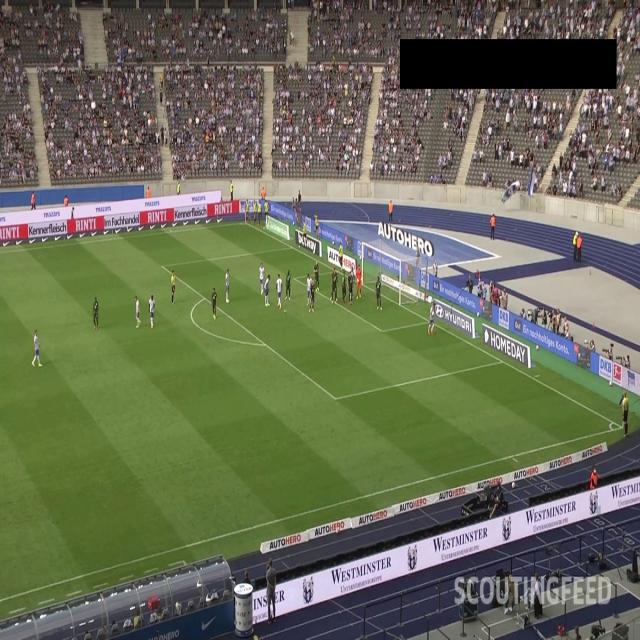ball: (431, 308, 436, 318)
player: (34, 325, 42, 368), (428, 298, 438, 332), (331, 266, 337, 302), (265, 274, 271, 310), (224, 267, 230, 303), (376, 276, 382, 311), (285, 270, 292, 300), (92, 296, 99, 326), (212, 286, 218, 320), (310, 278, 316, 310), (277, 273, 283, 304), (259, 264, 265, 295), (342, 269, 347, 301), (150, 294, 155, 326), (357, 264, 361, 299), (136, 295, 140, 330), (348, 270, 352, 303), (314, 259, 318, 290), (308, 274, 312, 303), (332, 270, 336, 298), (351, 265, 354, 298)
